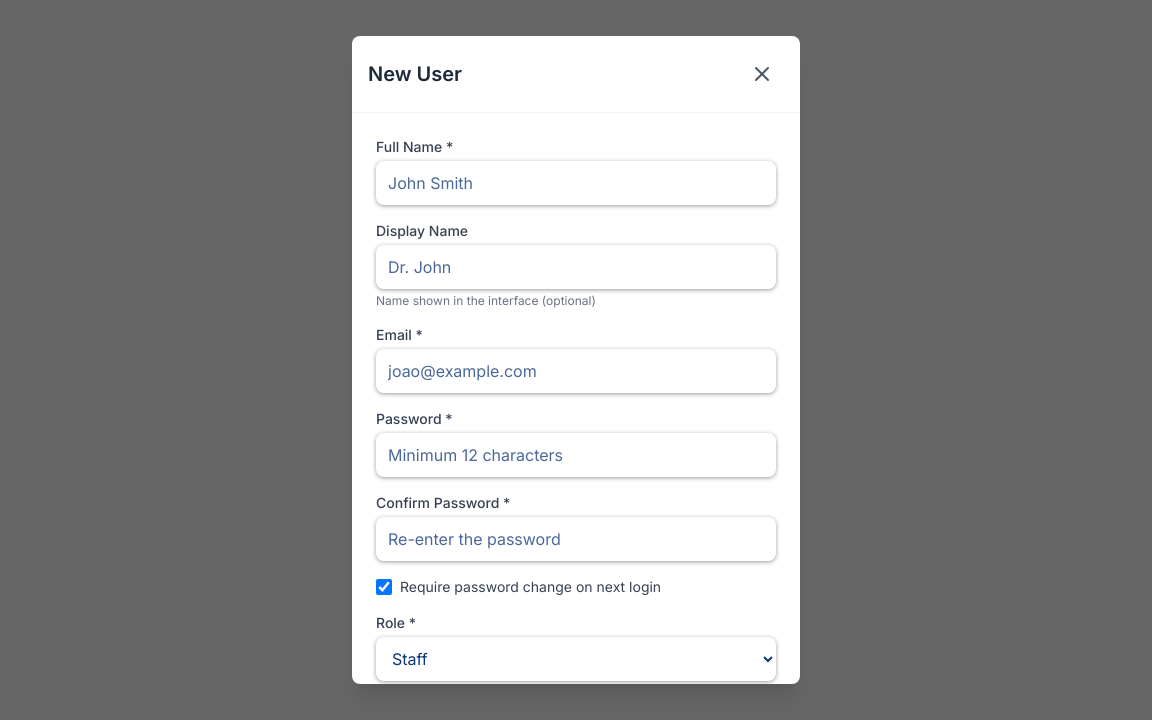
Test: UserForm › Create Mode › should validate password confirmation
Step 1. Type "ValidPassword123" into the password field labelled "Password *" → (576, 455), box 376,433 -> 776,477
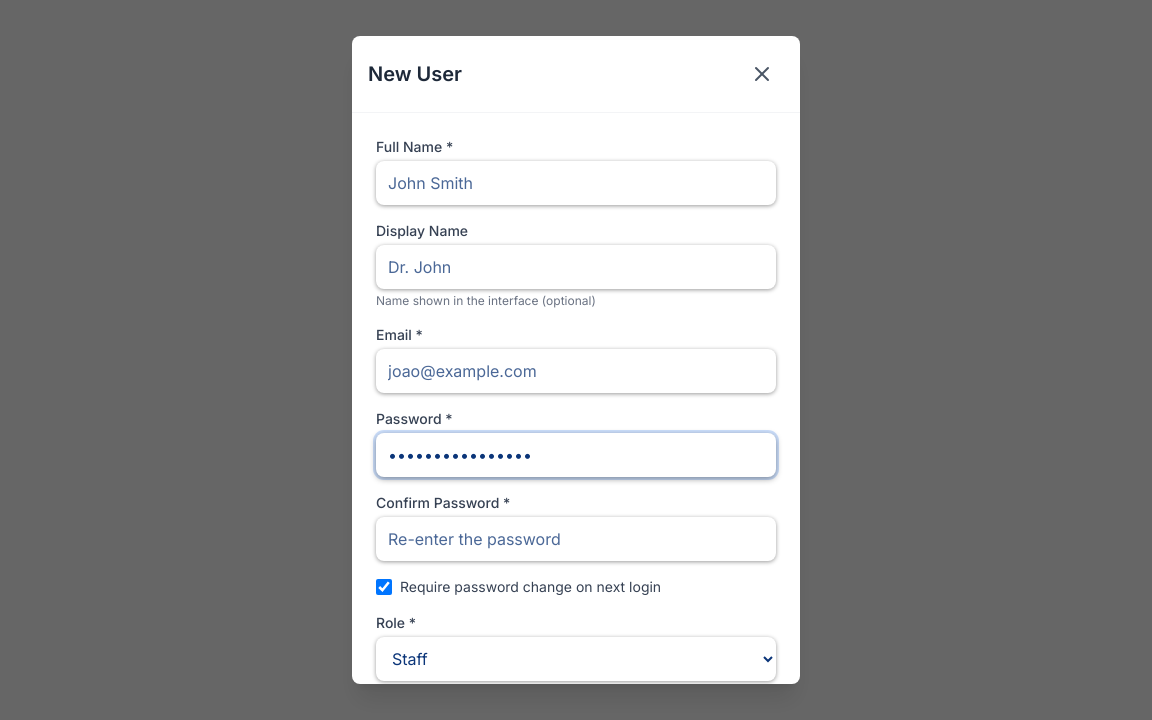
Step 2. Type "DifferentPassword123" into the password field labelled "Confirm Password *" → (576, 539), box 376,517 -> 776,561
(page scrolled)
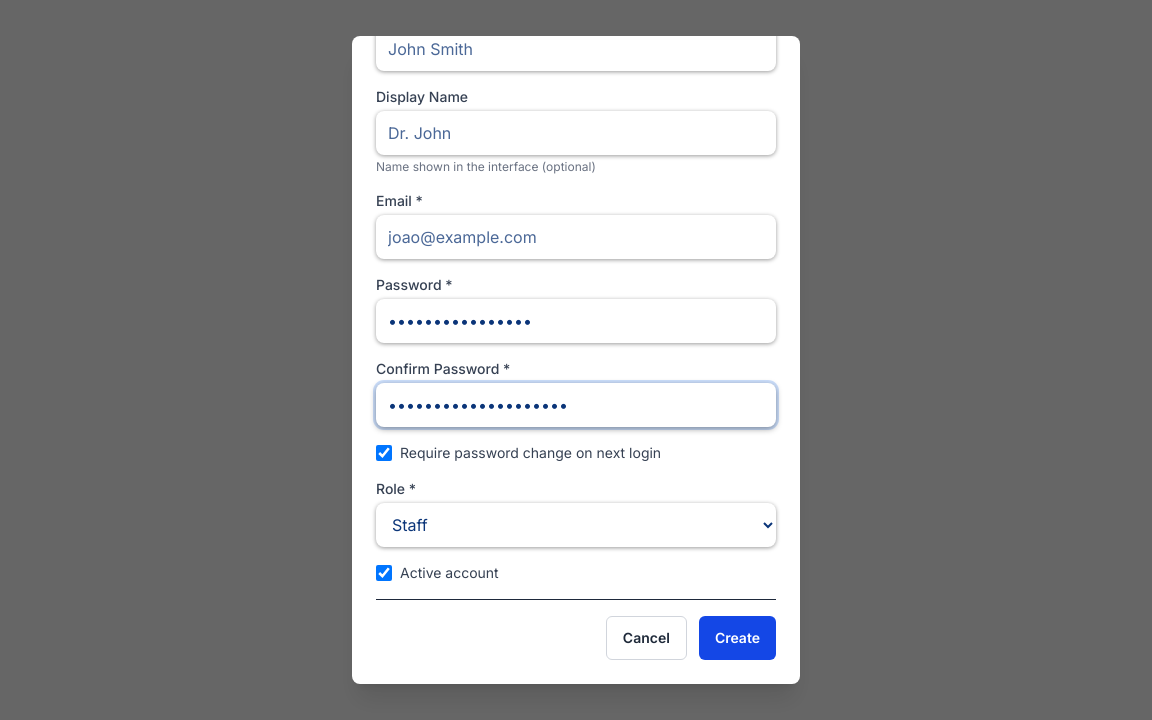
Step 3. Click the button "Create" → (737, 638), box 699,616 -> 776,660
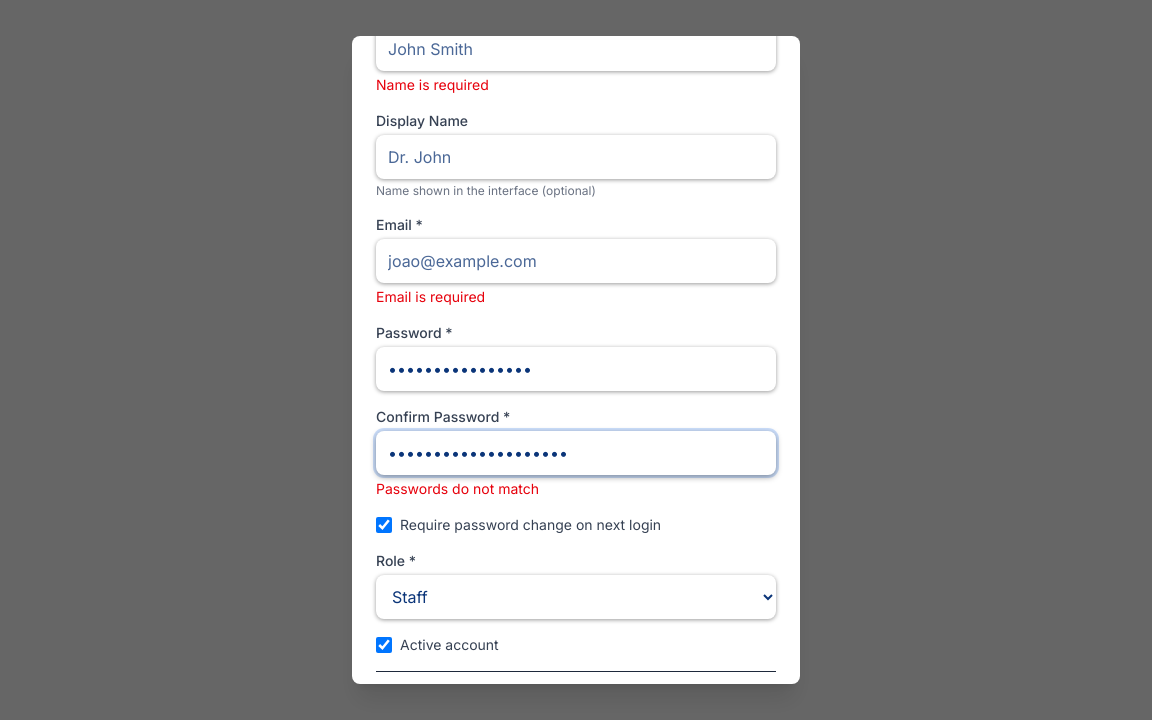
Now the text "Passwords do not match" is shown, box 376,480 -> 539,497
